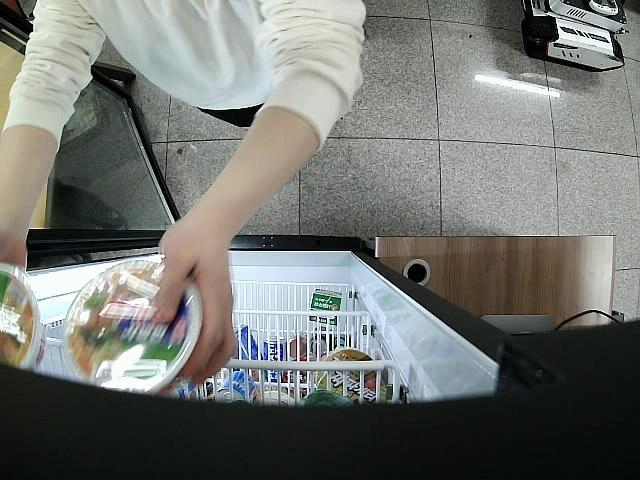09_yukGaeJang: (62, 256, 203, 396)
